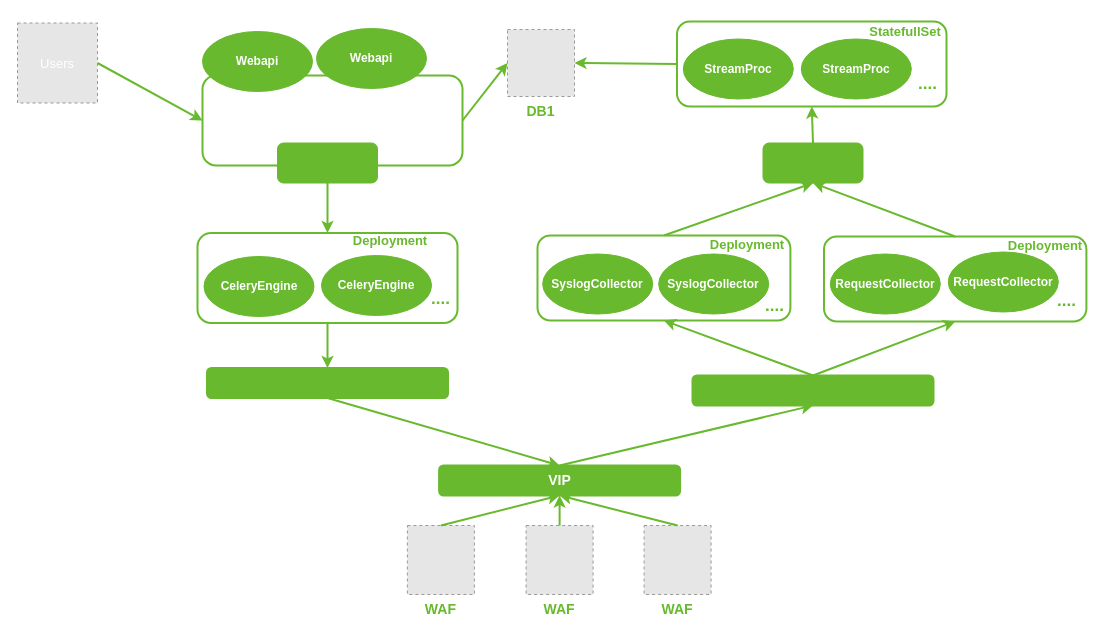
Image size: 1105x634. Some labels were removed from this diagram. Grey dashed boxes stand in for pictures. Here are the shapes that lost their labels. From the top down, the centre of each, then its label:
(x=327, y=162): Redis
(x=812, y=162): Kafka
(x=327, y=382): Squid
(x=812, y=390): Nginx Ingress Api Gateywa
